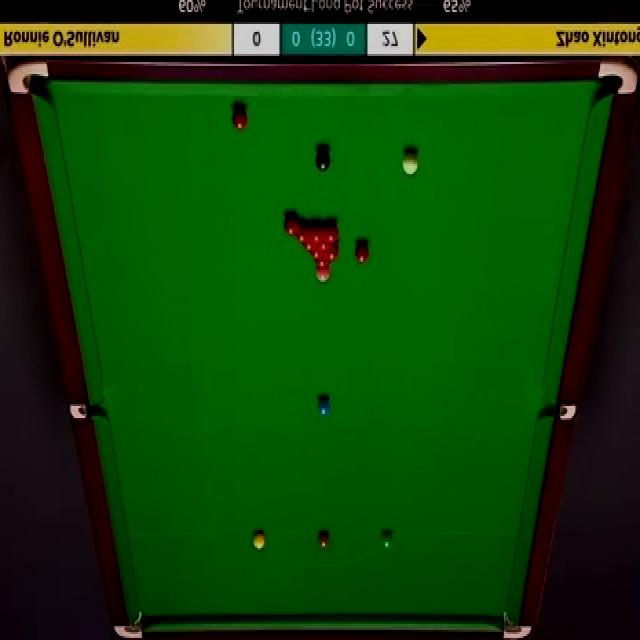pocket: (597, 57, 640, 101), (8, 63, 48, 94), (111, 611, 143, 640), (501, 611, 531, 638), (70, 403, 106, 420), (541, 402, 575, 420)
